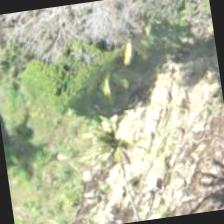Kelapa_Sawit: (60, 92, 162, 194)
